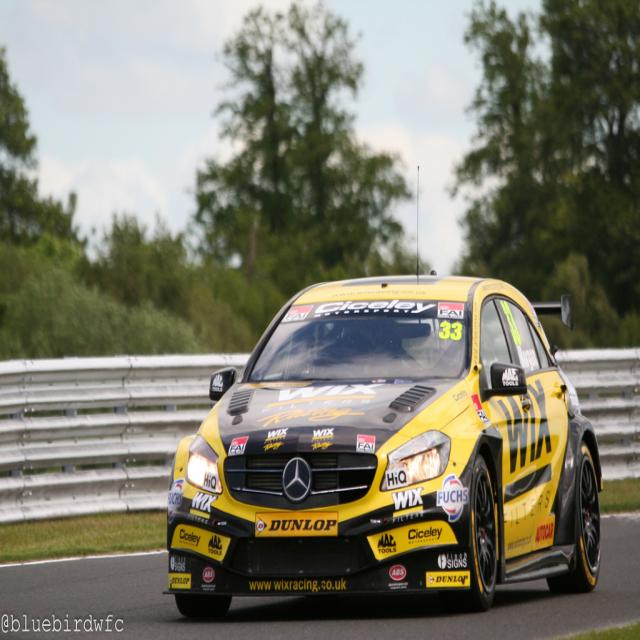car: (169, 272, 597, 632)
